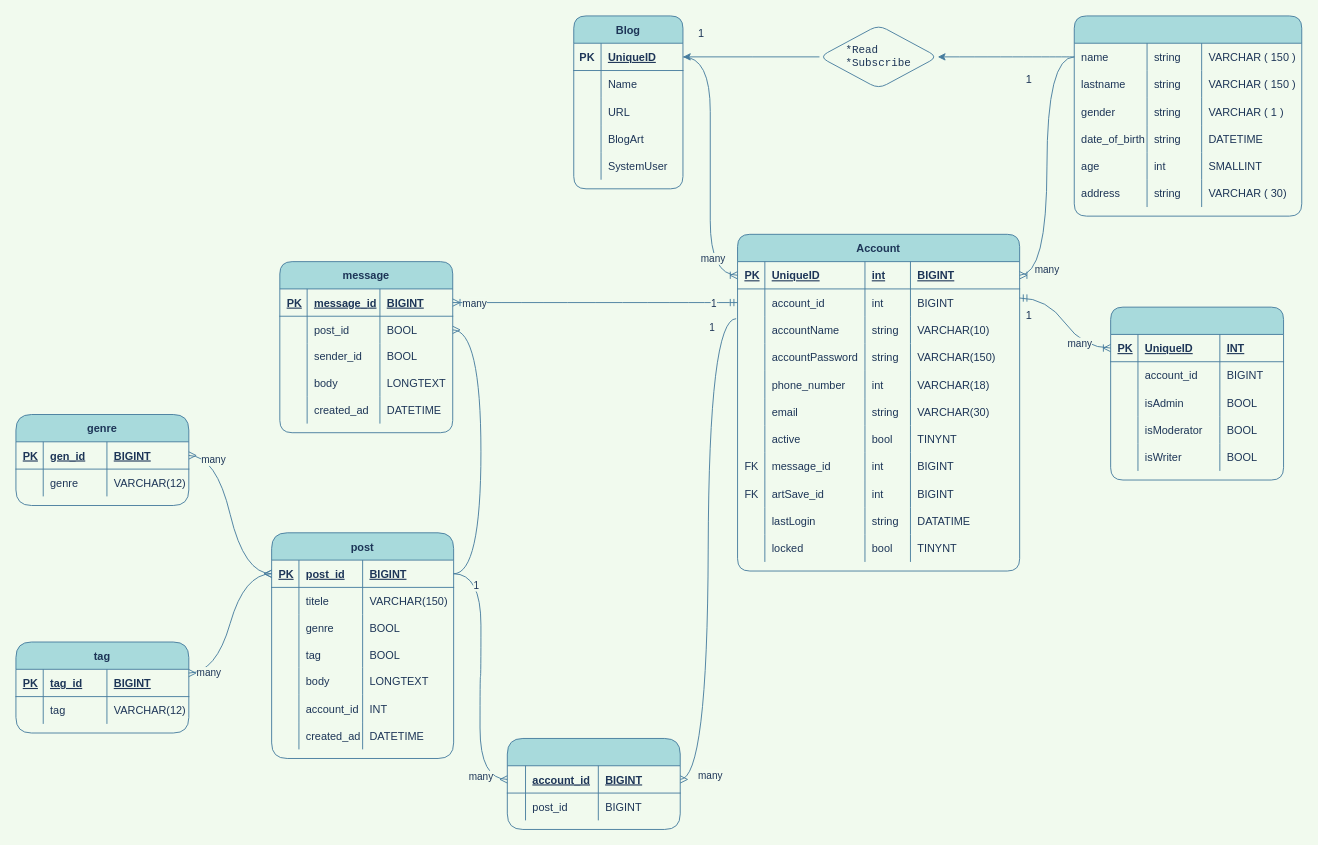
The diagram is 1318 pixels wide and 845 high, and some of its shapes have lost their labels. Here are the shapes that lost their labels. From the top down, the box of each, then its label:
(1073, 15, 1302, 216): Person
(1110, 306, 1284, 480): accountGroup
(506, 738, 680, 829): post_account
